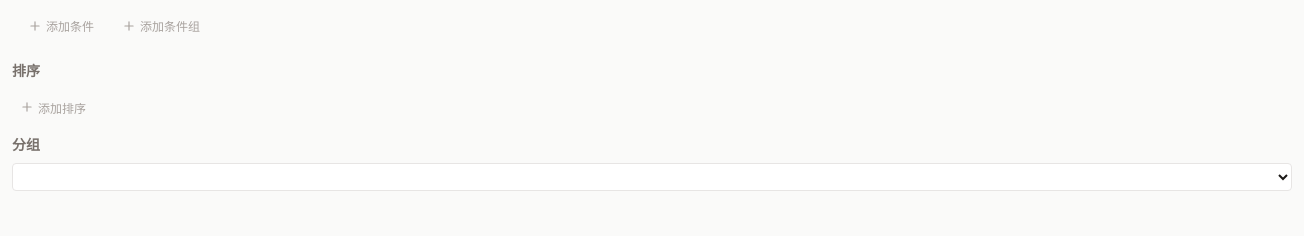
Test: FilterBuilder 值编辑器按类型分派 › multiSelect 字段渲染复选项
This screenshot has width=1304, height=236.
Click the button "添加条件" at (61, 26), box [20,14,102,37]
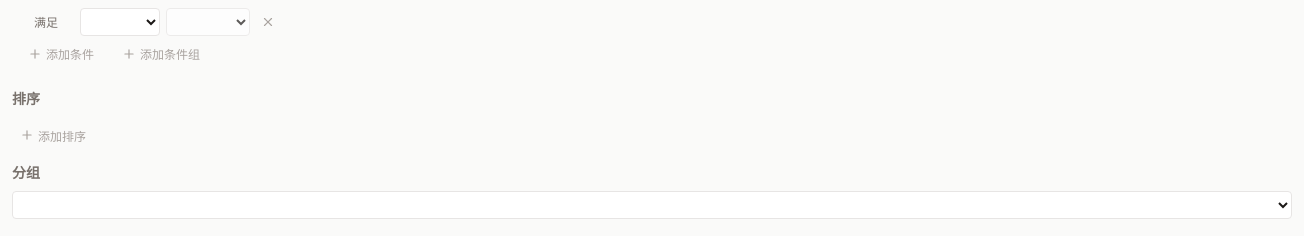
Select "标签" in the 1st dropdown at (120, 22), box [80,8,160,36]
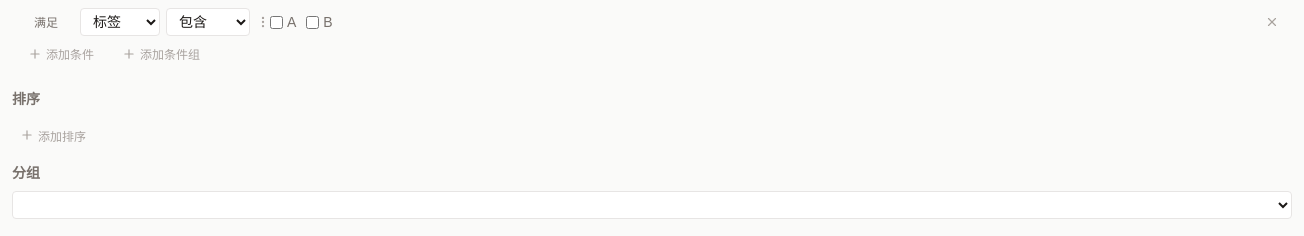
Check: the element showing "A B" is shown, box [270,14,333,30]
Check: the number of checkboxes is 2, box [270,16,283,28]; [306,16,319,28]
